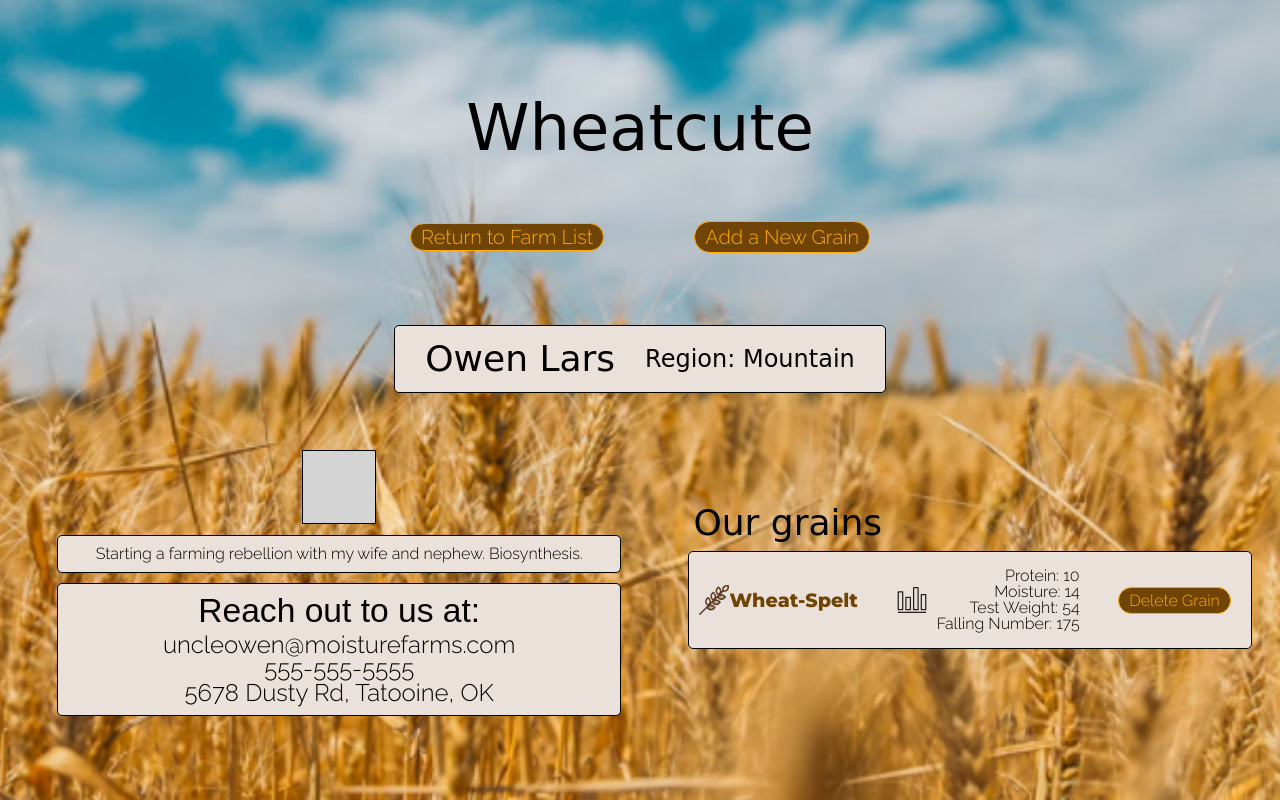
Test: navigation away from the farm update profile view › should navigate back to the farm results if the Return to Farm List link is clicked
Check: the element with class "farm-profile-container" is shown, box [0,312,1279,759]
Click the link "Return to Farm List" at (507, 237), box [410,223,604,251]
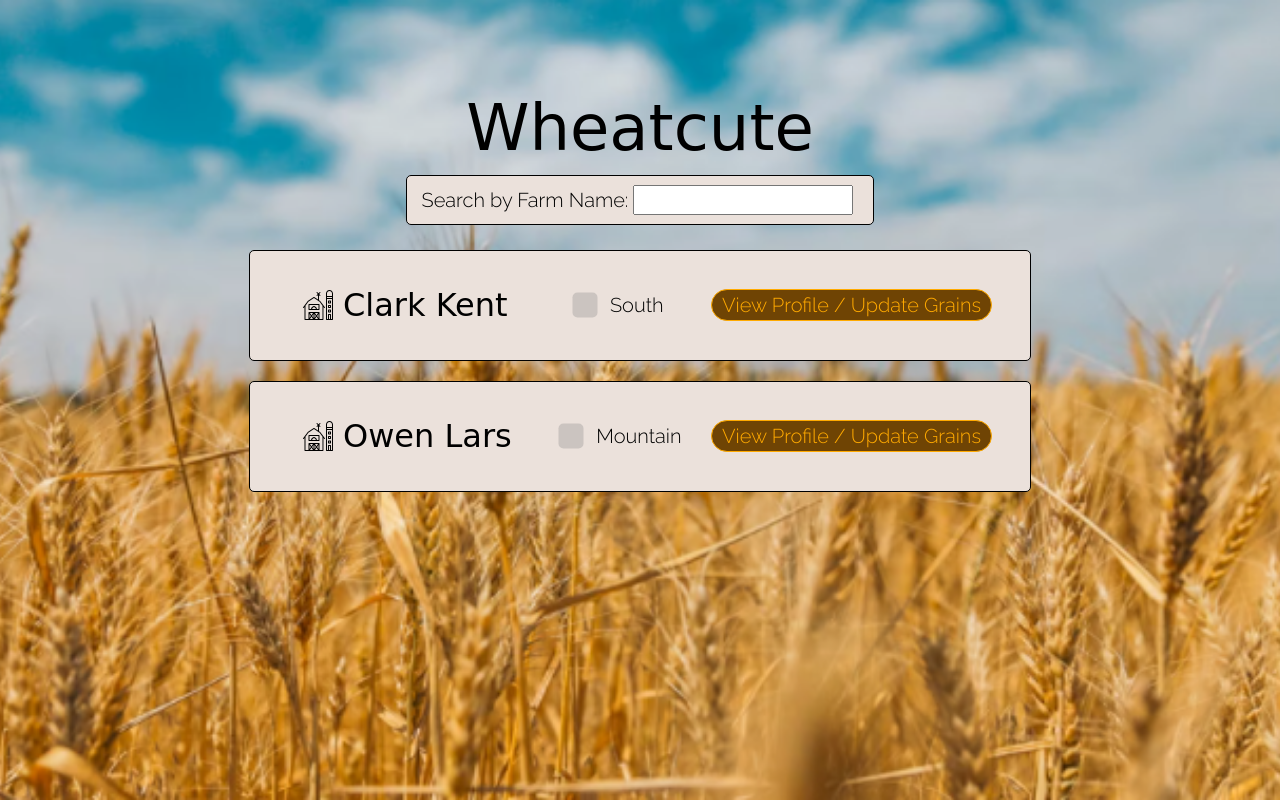
Check: the element with class "farm-profile-container" is gone
Check: the element with class "farm-browse-view" is shown, box [249,175,1032,492]
